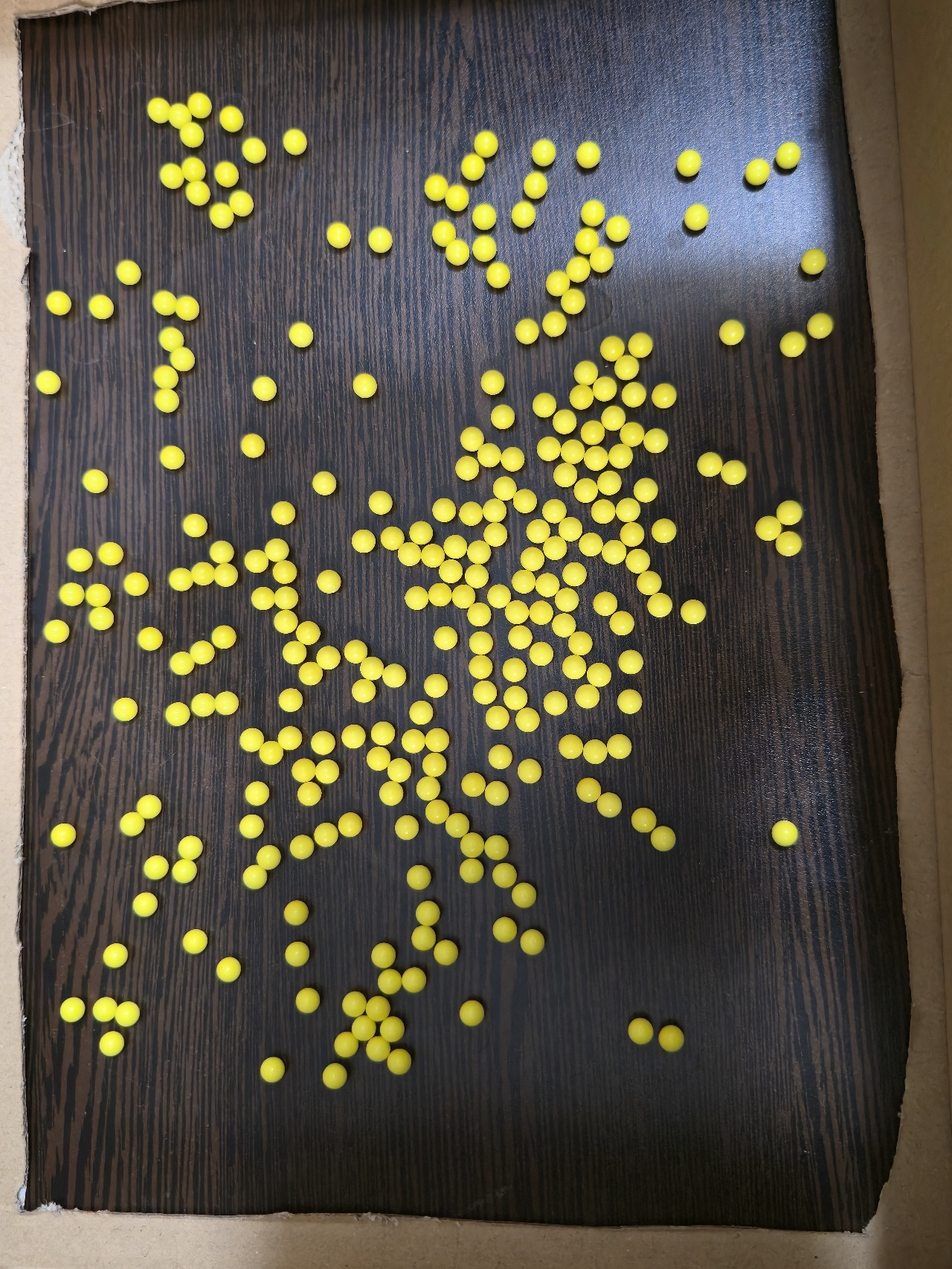yellow_bead: (153, 106, 198, 140), (164, 332, 187, 365), (158, 296, 193, 315), (118, 1007, 134, 1021), (778, 827, 792, 840), (782, 537, 796, 550), (762, 522, 776, 535), (159, 371, 172, 385), (786, 338, 800, 351), (571, 263, 585, 276), (215, 208, 228, 222), (751, 165, 764, 179), (99, 1003, 114, 1015), (596, 251, 608, 266), (451, 245, 463, 260), (478, 241, 490, 256), (66, 1003, 79, 1016), (178, 864, 191, 877), (125, 817, 138, 830), (727, 466, 740, 479), (614, 450, 627, 463), (566, 446, 579, 459), (649, 434, 662, 447), (160, 394, 173, 407), (807, 256, 820, 269), (690, 211, 703, 224), (782, 507, 796, 519), (628, 388, 640, 402), (634, 338, 646, 352), (548, 317, 560, 331), (553, 276, 565, 290), (612, 222, 624, 236), (478, 210, 490, 224), (165, 169, 177, 183), (683, 156, 695, 170), (782, 148, 794, 162), (582, 148, 594, 162), (196, 568, 211, 579), (235, 196, 246, 211), (222, 964, 235, 976), (109, 950, 122, 962), (189, 936, 202, 948), (249, 870, 261, 883), (184, 842, 196, 855), (142, 801, 155, 813), (623, 696, 636, 708), (218, 569, 231, 581), (489, 528, 501, 541), (657, 525, 670, 537), (704, 458, 716, 471), (590, 452, 602, 465), (483, 449, 496, 461), (543, 443, 556, 455), (599, 382, 611, 395), (258, 382, 270, 395), (41, 376, 54, 388), (580, 367, 592, 380), (620, 362, 633, 374), (295, 328, 307, 341), (726, 326, 738, 339), (521, 325, 533, 338), (814, 319, 826, 332), (94, 301, 107, 313), (52, 297, 65, 309), (567, 295, 579, 308), (122, 266, 134, 279), (332, 229, 344, 242), (385, 786, 396, 800), (176, 658, 190, 669), (65, 589, 79, 600), (175, 574, 189, 585), (374, 233, 385, 247), (530, 177, 541, 191), (289, 135, 300, 149), (197, 700, 212, 710), (106, 1038, 118, 1050), (657, 833, 669, 845), (320, 829, 332, 841), (401, 822, 413, 834), (451, 820, 463, 832), (604, 800, 616, 812), (303, 788, 315, 800), (251, 788, 263, 800), (491, 788, 503, 800), (393, 765, 405, 777), (589, 746, 601, 758), (613, 741, 625, 753), (521, 714, 533, 726), (358, 685, 370, 697), (593, 669, 605, 681), (568, 661, 580, 673), (322, 652, 334, 664), (94, 612, 106, 624), (457, 591, 469, 603), (518, 576, 530, 588), (279, 566, 291, 578), (445, 565, 457, 577), (632, 556, 644, 568), (404, 548, 416, 560), (608, 547, 620, 559), (216, 547, 228, 559), (489, 505, 501, 517), (622, 504, 634, 516), (580, 485, 592, 497), (640, 484, 652, 496), (603, 477, 615, 489), (506, 454, 518, 466), (497, 411, 509, 423), (576, 391, 588, 403), (658, 390, 670, 402), (441, 190, 457, 199), (266, 1063, 277, 1076), (139, 899, 152, 910), (149, 862, 162, 873), (637, 815, 650, 826), (320, 767, 333, 778), (245, 735, 258, 746), (171, 709, 184, 720), (219, 698, 232, 709), (387, 670, 400, 681), (195, 647, 208, 658), (49, 626, 62, 637), (687, 607, 700, 618), (165, 452, 178, 463), (466, 433, 477, 446), (625, 430, 638, 441), (588, 426, 599, 439), (608, 412, 619, 425), (487, 376, 498, 389), (248, 144, 259, 157), (257, 594, 271, 604), (466, 1008, 477, 1020), (302, 995, 313, 1007), (292, 948, 303, 960), (422, 907, 433, 919), (518, 890, 529, 902), (263, 852, 274, 864), (491, 842, 502, 854), (296, 842, 308, 853), (466, 840, 477, 852), (245, 821, 257, 832), (431, 807, 443, 818), (422, 783, 434, 794), (468, 780, 480, 791), (524, 765, 535, 777), (429, 759, 440, 771), (373, 753, 384, 765), (408, 736, 419, 748), (431, 735, 443, 746), (377, 727, 388, 739), (415, 707, 426, 719), (118, 704, 130, 715), (550, 698, 561, 710), (509, 693, 521, 704), (475, 661, 486, 673), (625, 657, 637, 668), (350, 646, 361, 658), (574, 638, 586, 649), (475, 637, 486, 649), (559, 620, 570, 632), (280, 616, 291, 628), (535, 608, 547, 619), (511, 607, 523, 618), (654, 600, 666, 611), (562, 594, 573, 606), (91, 590, 103, 601), (541, 580, 553, 591), (643, 578, 655, 589), (323, 577, 335, 588), (471, 571, 483, 582), (251, 556, 263, 567), (427, 551, 439, 562), (103, 548, 115, 559), (473, 547, 485, 558), (271, 545, 283, 556), (549, 543, 561, 554), (449, 542, 461, 553), (358, 536, 370, 547), (415, 528, 427, 539), (533, 525, 544, 537), (565, 524, 576, 536), (465, 509, 477, 520), (598, 506, 609, 518), (548, 506, 560, 517), (499, 483, 510, 495), (89, 476, 101, 487), (560, 469, 571, 481), (462, 463, 473, 475), (559, 416, 570, 428), (606, 342, 617, 354), (518, 211, 530, 222), (279, 593, 292, 603), (73, 555, 86, 565), (413, 873, 424, 884), (266, 748, 277, 759), (565, 742, 576, 753), (317, 738, 328, 749), (284, 733, 295, 744), (348, 731, 359, 742), (285, 695, 296, 706), (582, 691, 593, 702), (479, 687, 490, 698), (509, 665, 520, 676), (536, 649, 547, 660), (289, 647, 300, 658), (440, 633, 451, 644), (515, 632, 526, 643), (600, 599, 611, 610), (569, 569, 580, 580), (527, 554, 538, 565), (585, 539, 596, 550), (387, 533, 398, 544), (627, 529, 638, 540), (277, 508, 288, 519), (438, 505, 449, 516), (375, 498, 386, 509), (519, 496, 530, 507), (318, 478, 329, 489), (359, 381, 370, 392), (329, 1070, 339, 1082), (583, 787, 595, 797), (298, 767, 310, 777), (495, 751, 505, 763), (366, 664, 378, 674), (302, 629, 314, 639), (616, 619, 628, 629), (473, 610, 485, 620), (411, 594, 423, 604), (494, 591, 504, 603), (434, 590, 446, 600), (188, 521, 200, 531), (247, 440, 257, 452), (527, 937, 537, 948), (499, 870, 509, 881), (466, 867, 477, 877), (492, 713, 502, 724), (431, 681, 441, 692), (305, 669, 316, 679), (218, 632, 228, 643), (539, 401, 550, 411), (440, 947, 449, 959), (57, 829, 66, 841), (492, 270, 501, 282), (191, 187, 200, 199), (348, 998, 356, 1011), (438, 227, 446, 240), (635, 1027, 645, 1037), (290, 909, 300, 919), (408, 975, 417, 986), (418, 933, 427, 944), (129, 579, 138, 590), (378, 950, 386, 962), (538, 152, 550, 160), (373, 1046, 382, 1056), (344, 822, 354, 831), (588, 207, 599, 215), (393, 1060, 402, 1068), (384, 979, 392, 988), (358, 1024, 364, 1035), (499, 925, 505, 936), (386, 1027, 394, 1035), (144, 637, 152, 645), (480, 137, 489, 144), (341, 1042, 347, 1051), (666, 1038, 674, 1044), (220, 170, 228, 176), (585, 234, 589, 243), (189, 166, 194, 173), (434, 185, 440, 190), (372, 1006, 376, 1012), (228, 115, 232, 120), (196, 103, 199, 106), (472, 164, 474, 168)
